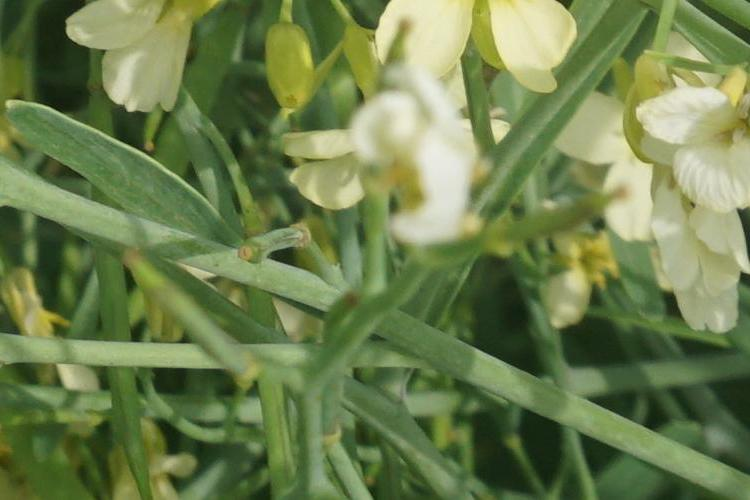bud: (256, 13, 318, 112)
white: (267, 78, 517, 238), (54, 13, 213, 118), (628, 66, 748, 197), (371, 20, 553, 74)
